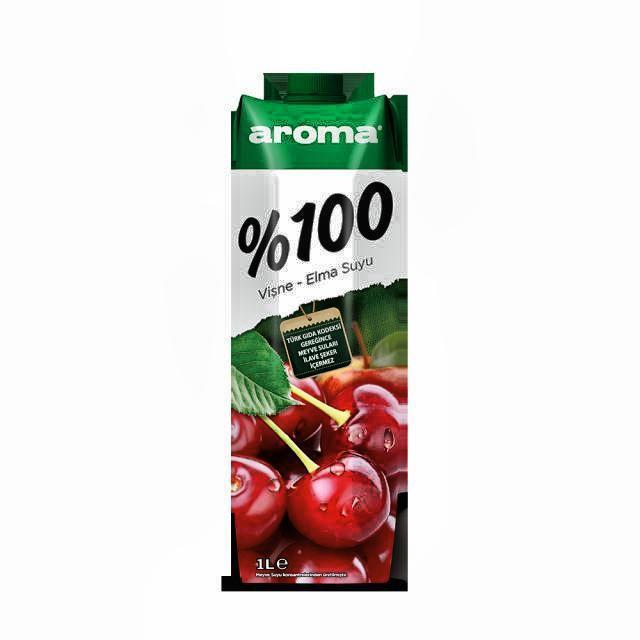cardboard: (221, 73, 408, 594)
